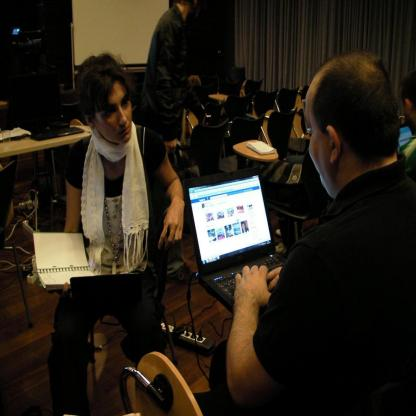board: (182, 166, 286, 310)
